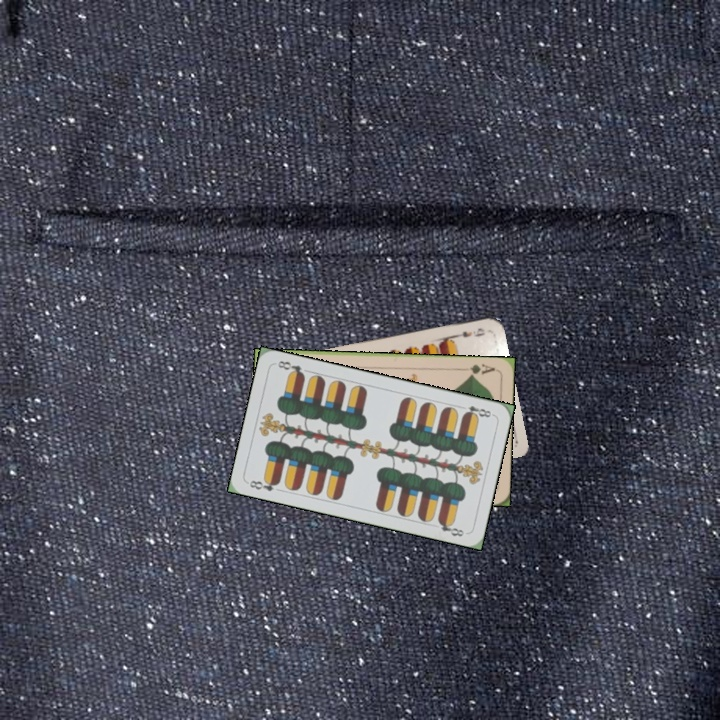E8: (459, 401, 496, 421), (245, 474, 282, 494)
E9: (449, 324, 487, 341)
GA: (457, 360, 497, 379)
